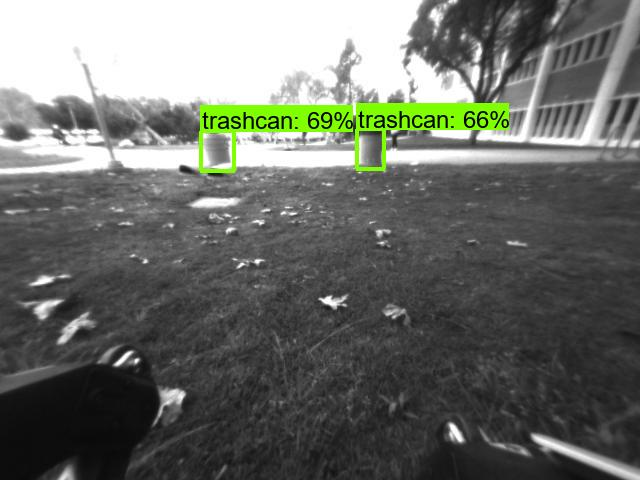trashcan: (201, 132, 236, 169), (360, 131, 385, 166)
